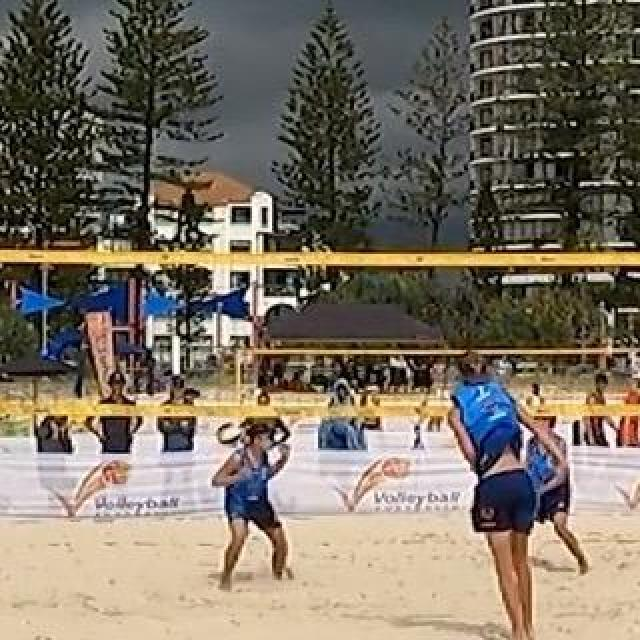volleyball: (519, 395, 549, 421)
